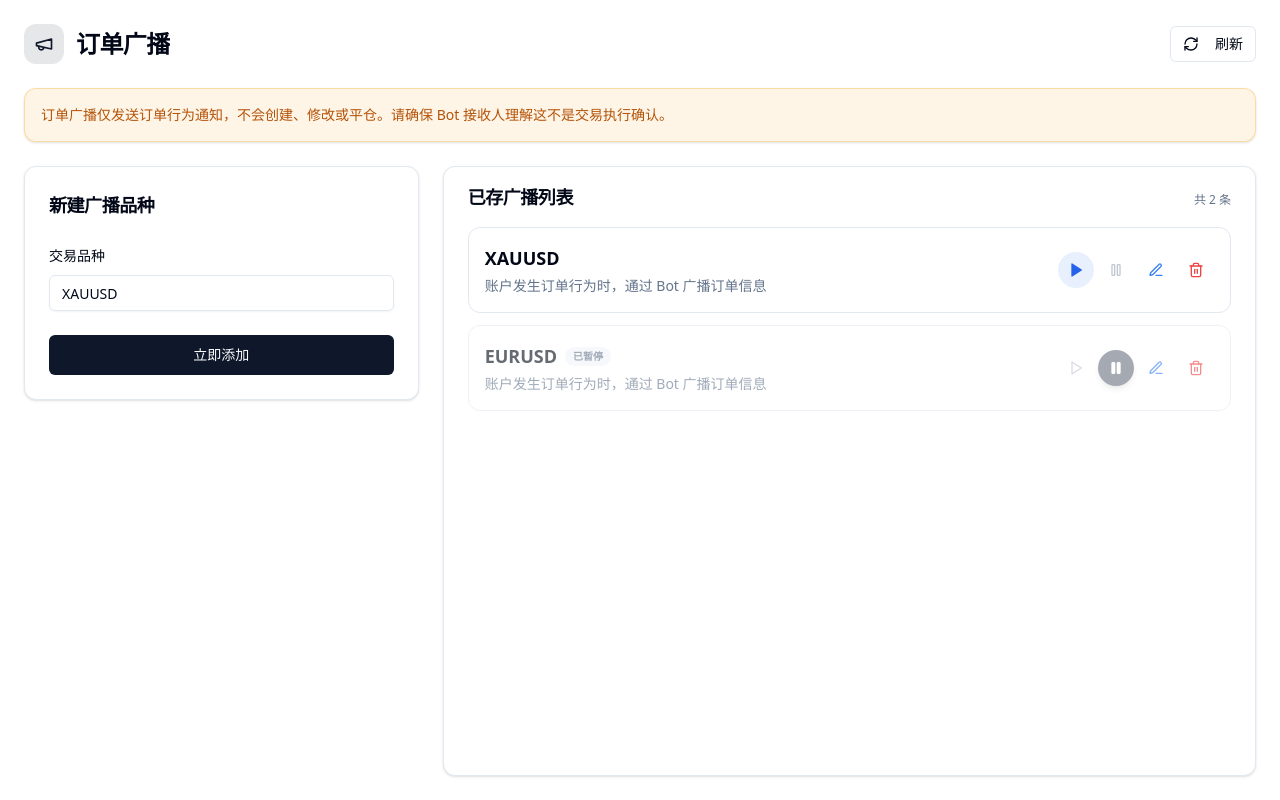
Test: OrderBroadcastPage › prevents editing a symbol into another existing symbol
Click the button titled "编辑" in the row of "已暂停" at (1156, 368), box [1138,350,1174,386]
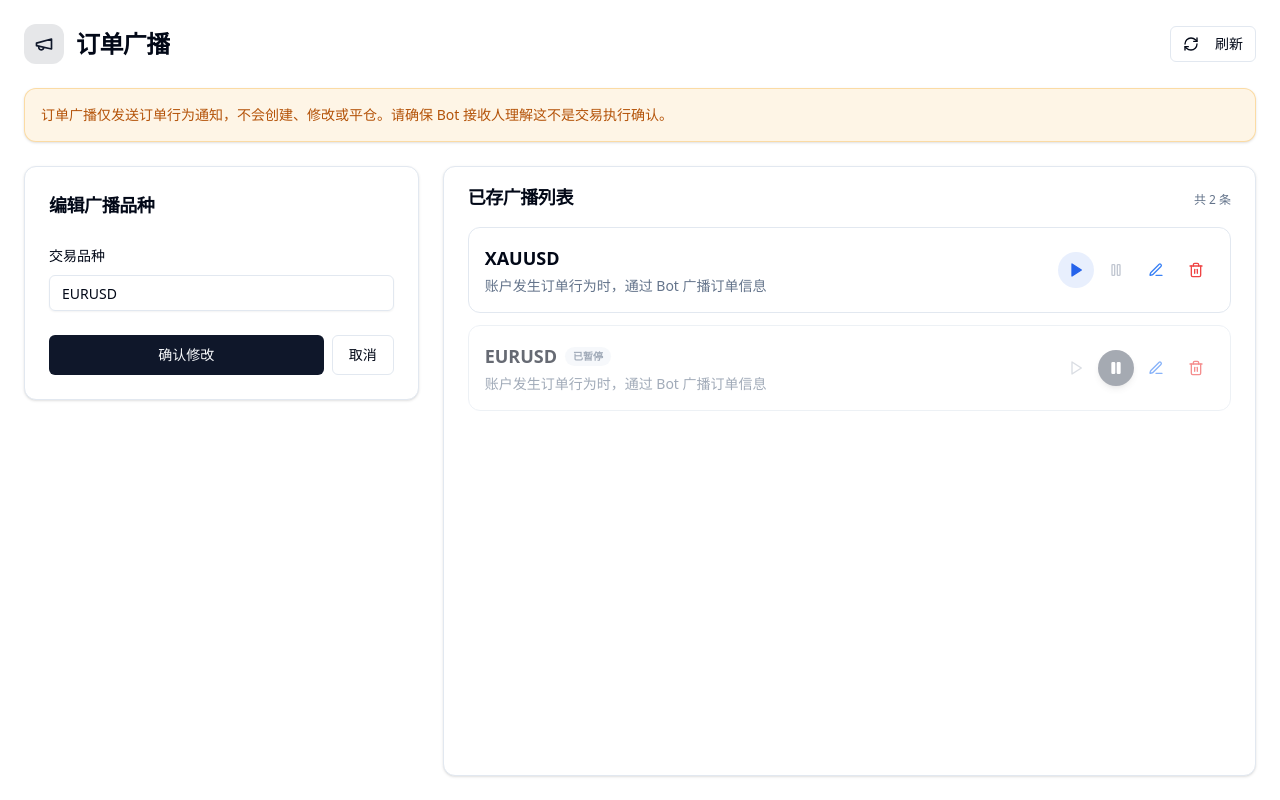
Replace the text in the field labelled "交易品种" with " xauusd " at (221, 293), box [49,275,394,311]
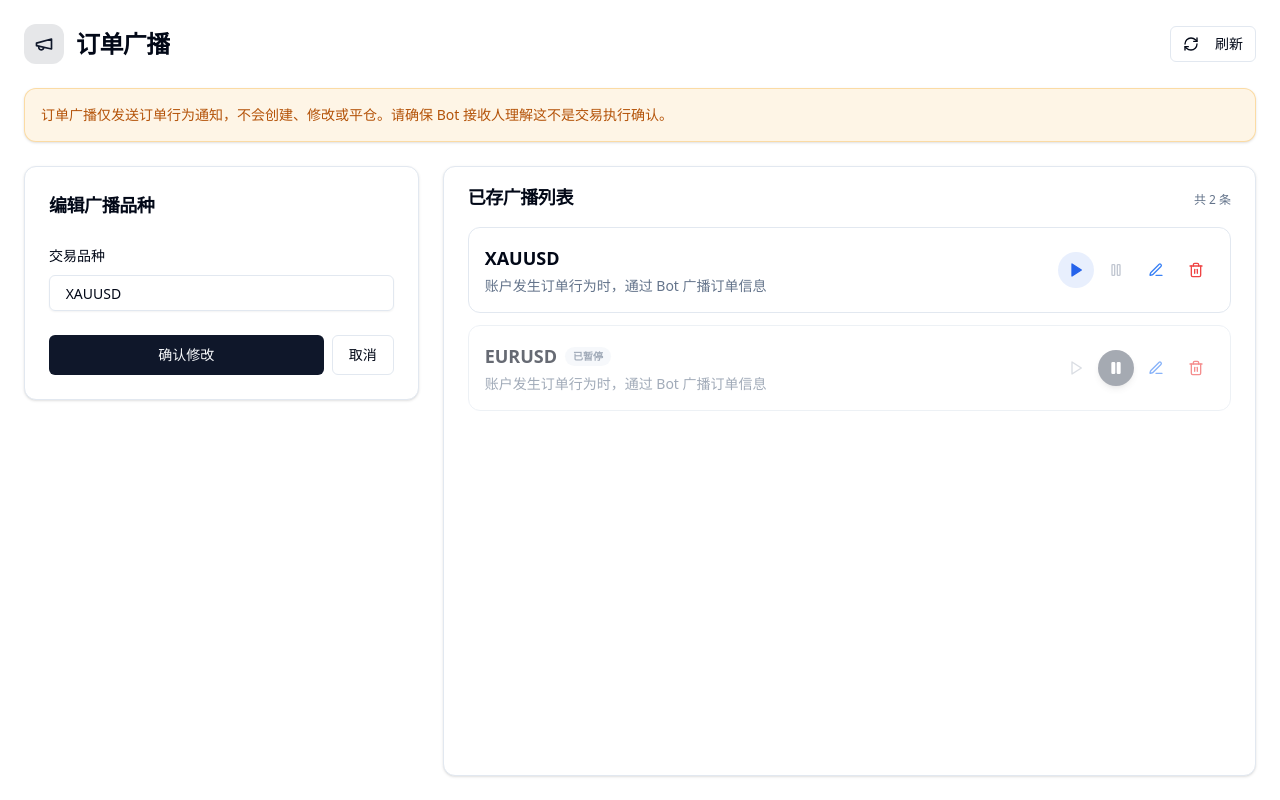
Click the button "确认修改" at (186, 355), box [49,335,324,375]
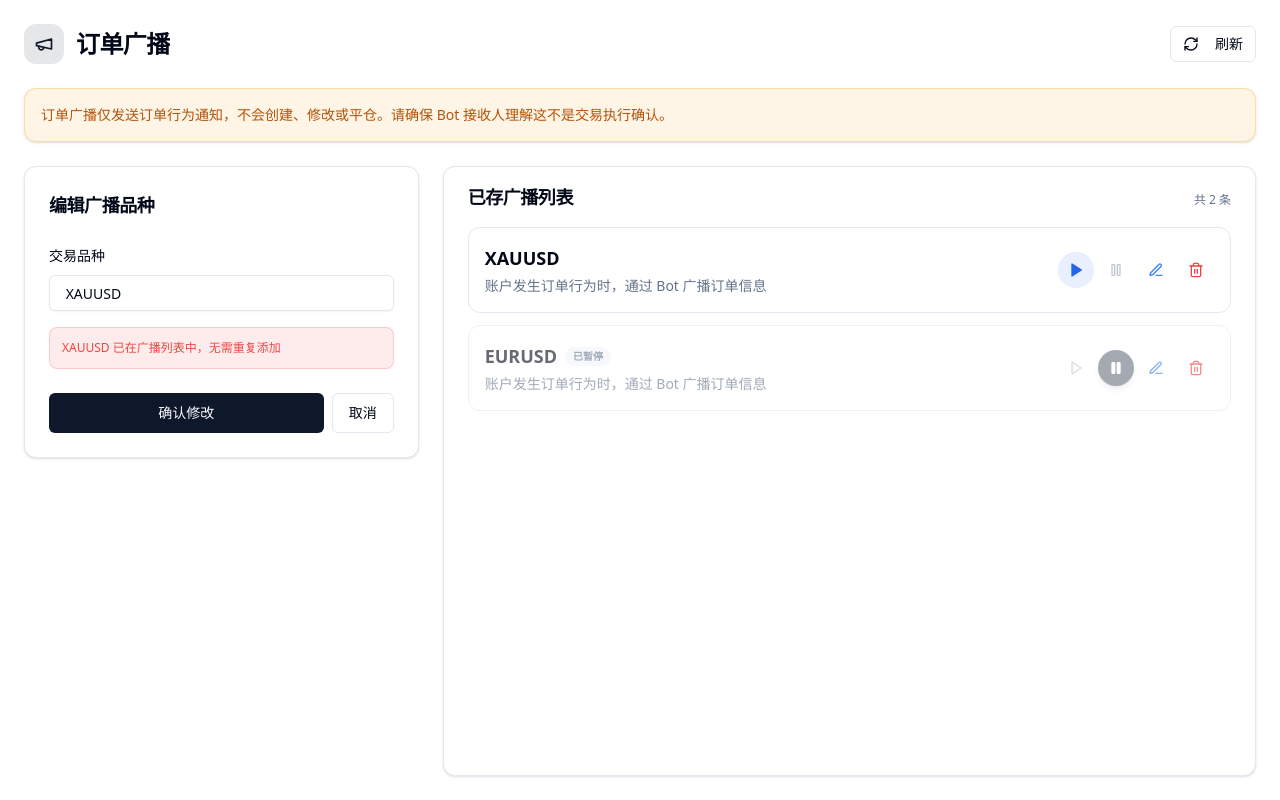
Expected: the text "XAUUSD 已在广播列表中，无需重复添加" is shown, [49,327,394,369]
